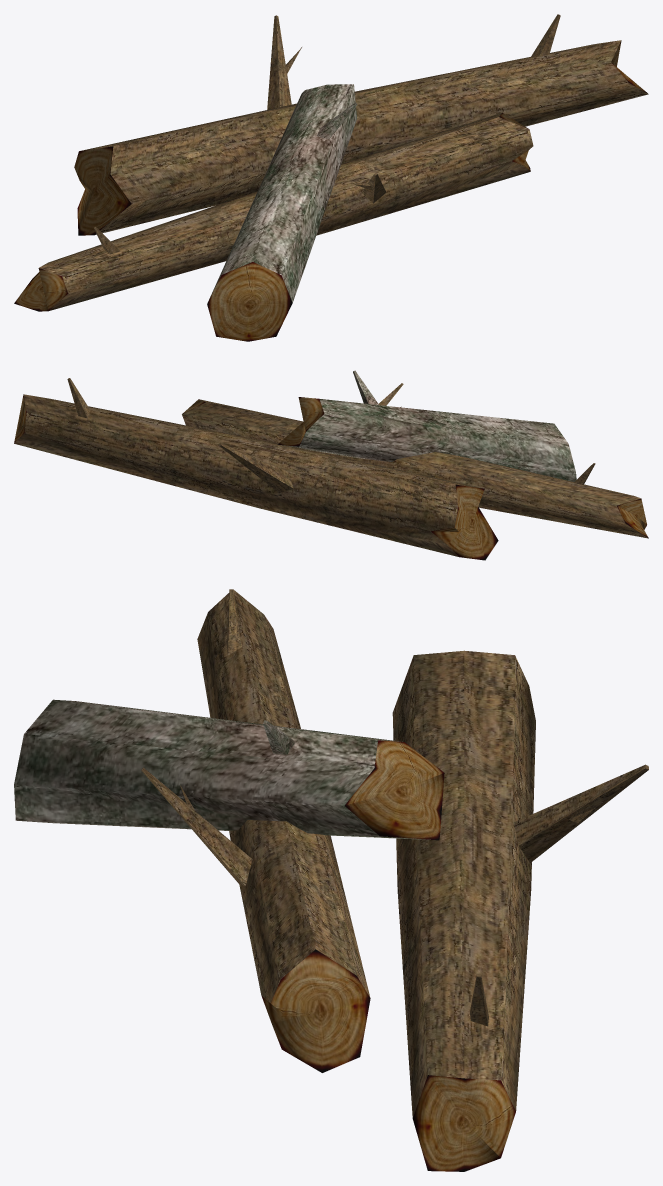
Rendered from gen_log_group02.fbx.
The picture shows the model from 3 angles, top to bottom: view 1: azimuth 30°, elevation 25°; view 2: azimuth 150°, elevation 25°; view 3: azimuth 270°, elevation 25°; orthographic projection. The views are drawn at different scales.
Visible parts, largest first — view 1: polycombine, polycombine4, polycombine2; view 2: polycombine, polycombine2, polycombine4; view 3: polycombine, polycombine2, polycombine4.
Part boxes in pixels (x1,y1,x2,y2): polycombine: [74, 14, 648, 235]; polycombine4: [14, 112, 533, 311]; polycombine2: [207, 84, 357, 341]; polycombine: [14, 378, 498, 560]; polycombine2: [277, 370, 576, 481]; polycombine4: [182, 383, 648, 538]; polycombine: [392, 650, 648, 1171]; polycombine2: [14, 699, 444, 840]; polycombine4: [141, 589, 370, 1072].
Bounding box in the file's own units: 1783 × 368 × 886.
Materials: 1 (1 with a texture image).
